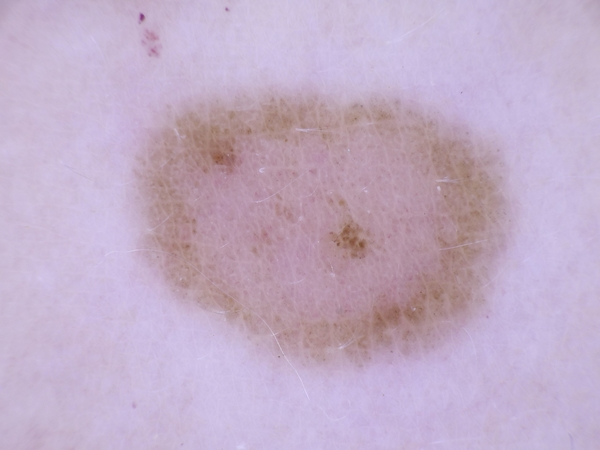Detected Lesion: (128, 87, 519, 368)
